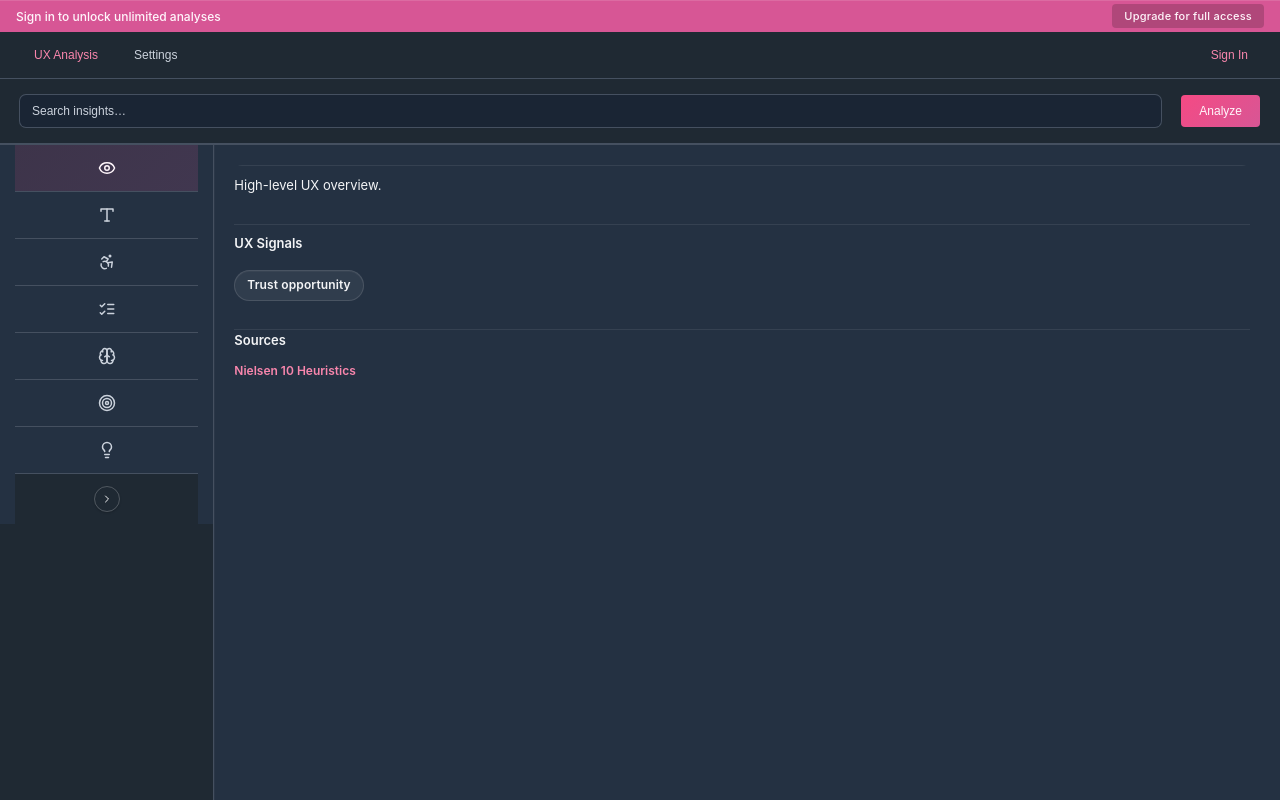
it: App: repeated analyses reset tabs to skeleton › after a completed run, clicking Analyze again shows a skeleton in the active tab until new results arrive
Click the tab with id "analysis-tab-psychology".
click(107, 357)  # box [15,333,198,380]
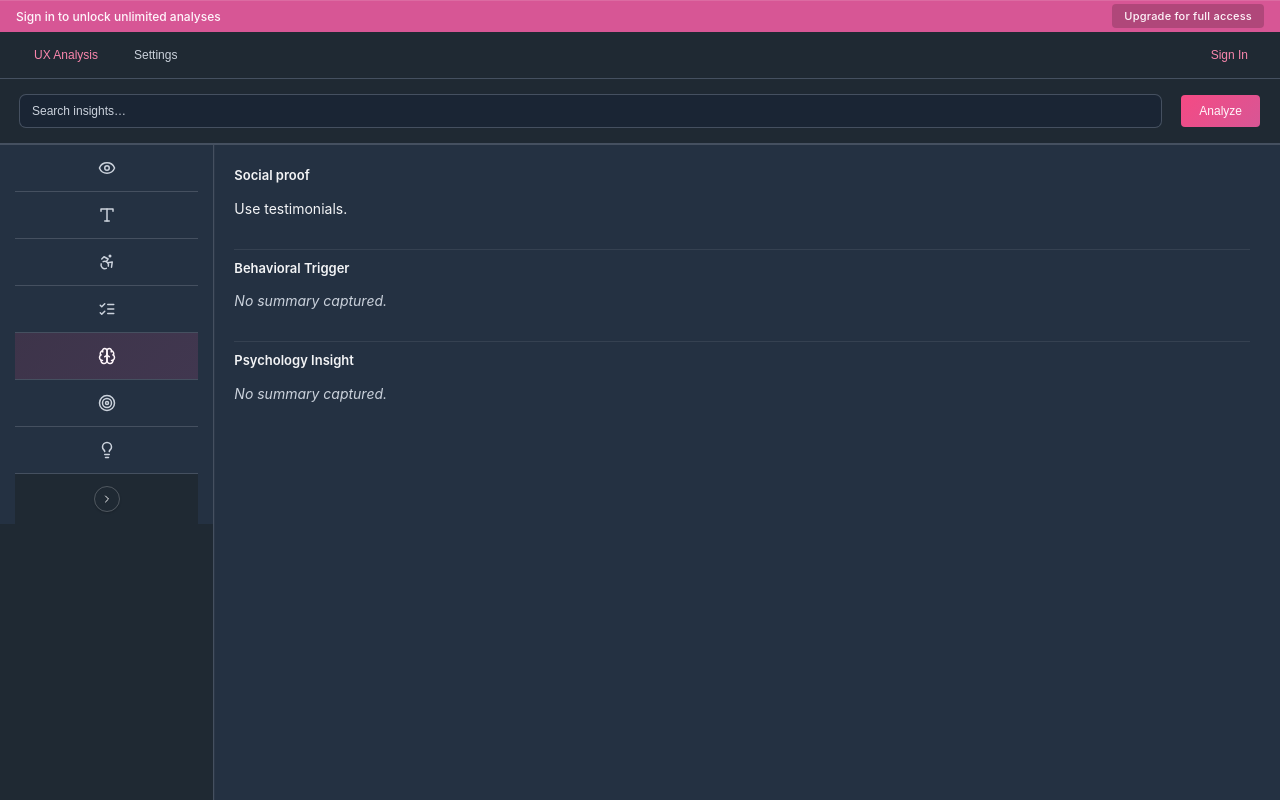
Result: the panel with id "analysis-panel-psychology" is shown at [234,167,1250,413]
Click the button "Analyze".
click(1221, 111)  # box [1181,95,1260,127]
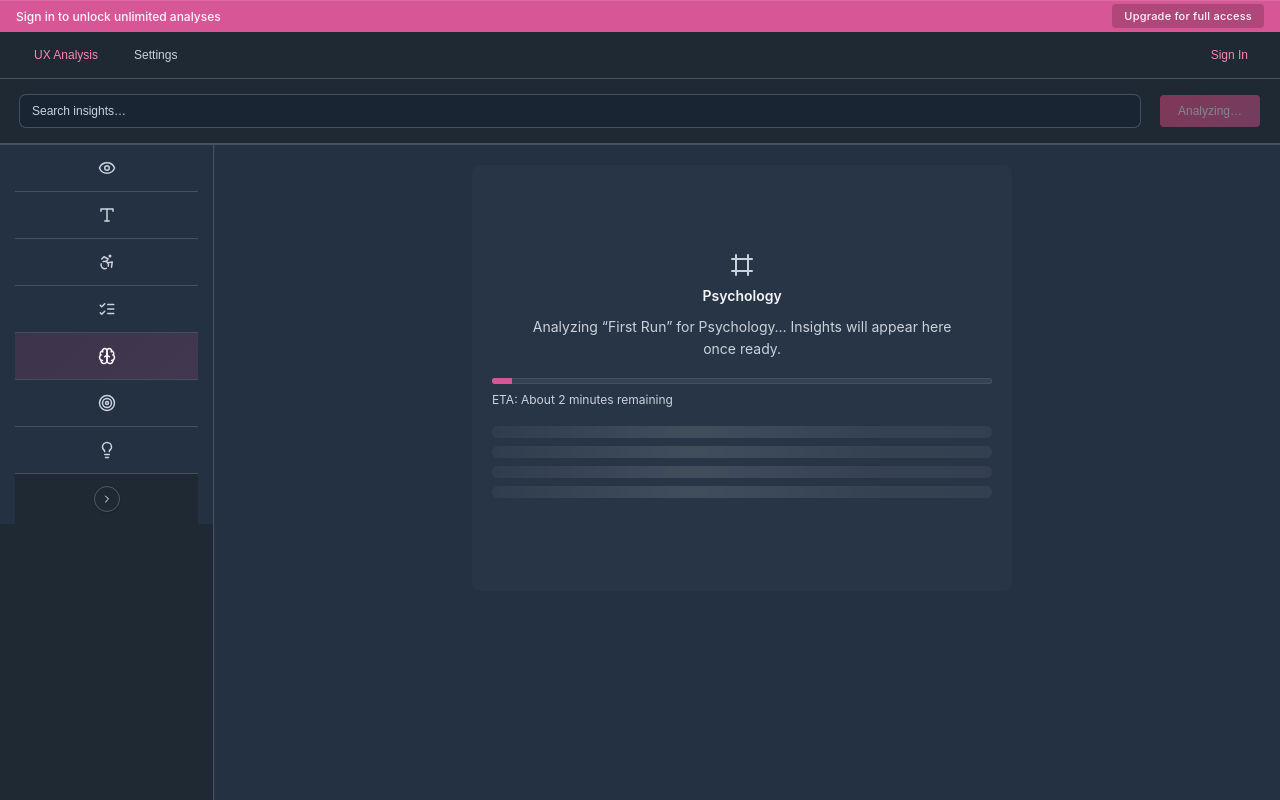
Result: the message that starts with "Psychology" is shown at [472,165,1012,591]
